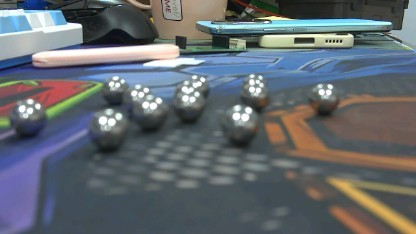ironball: (86, 107, 124, 149), (9, 94, 43, 139), (220, 102, 257, 140), (132, 96, 166, 132), (307, 77, 339, 112), (171, 92, 206, 123), (99, 68, 126, 102), (125, 75, 149, 106), (172, 73, 206, 92), (240, 84, 269, 103), (239, 68, 269, 82), (184, 67, 208, 82)
